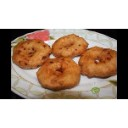vada: (41, 59, 80, 87), (14, 39, 53, 67), (53, 32, 91, 58), (82, 48, 117, 75)
